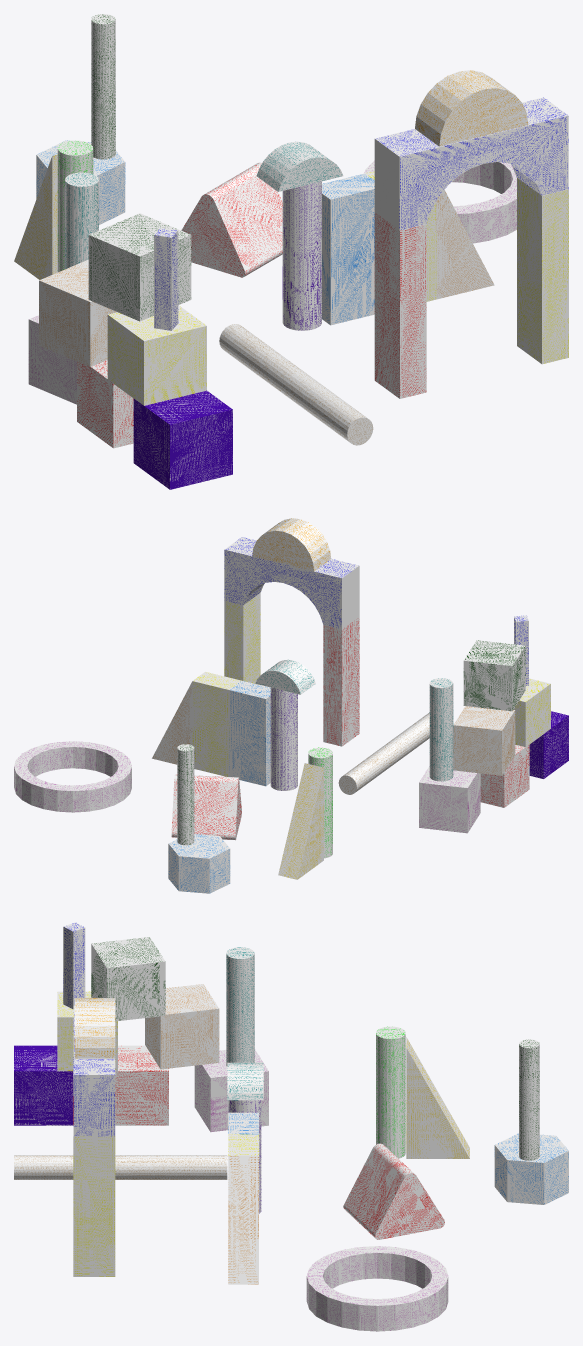
Rendered from jimu.fbx.
3 views of the same model, one above another, from view 1: azimuth 30°, elevation 25°; view 2: azimuth 150°, elevation 25°; view 3: azimuth 270°, elevation 25° (orthographic). The views are drawn at different scales.
Parts seen in each view (by area): view 1: big; view 2: big; view 3: big.
Boxes of the visible parts, box(x1,y1,x2,y2) form: big: box(14, 14, 568, 489); big: box(14, 518, 568, 893); big: box(14, 922, 568, 1331).
Size of the model in its own units: 538 by 255 by 529.
